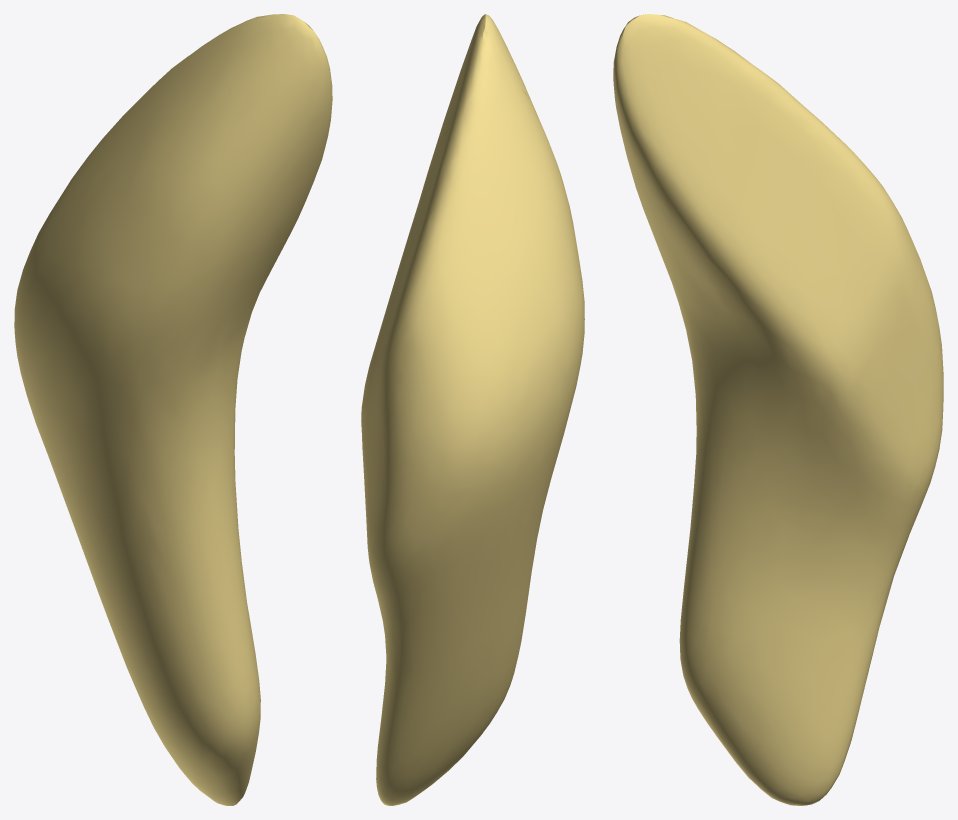
The model's file is fma54615_mm3536m.glb.
The picture shows the model from 3 angles, left to right: view 1: azimuth 30°, elevation 25°; view 2: azimuth 150°, elevation 25°; view 3: azimuth 270°, elevation 25°; orthographic projection. The views are drawn at different scales.
Visible parts, largest first — view 1: FMA54615_MM3536M; view 2: FMA54615_MM3536M; view 3: FMA54615_MM3536M.
Boxes of the visible parts, bbox=[...] form: FMA54615_MM3536M: bbox=[14, 14, 332, 805]; FMA54615_MM3536M: bbox=[361, 14, 584, 805]; FMA54615_MM3536M: bbox=[613, 14, 943, 805].
Bounding box in the file's own units: 0.00245 × 0.00968 × 0.00371.
